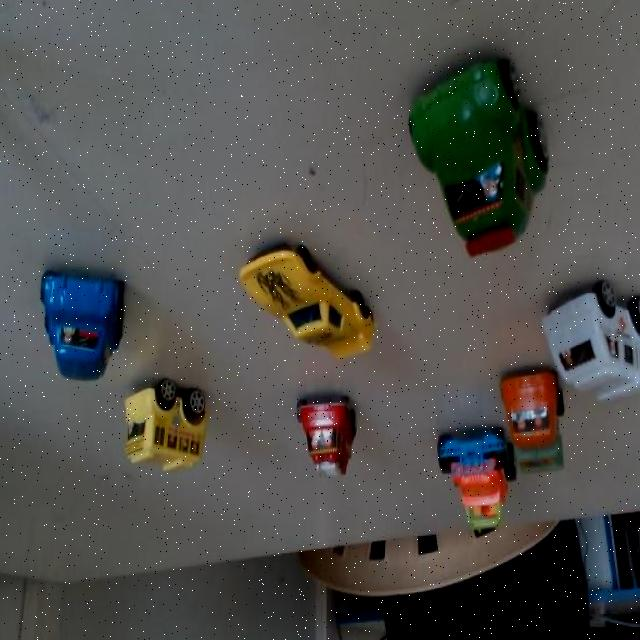car: (412, 73, 562, 251), (240, 238, 380, 366), (534, 262, 640, 421), (126, 368, 218, 474), (424, 429, 511, 538), (38, 270, 123, 380), (294, 380, 370, 488), (500, 367, 568, 485)
